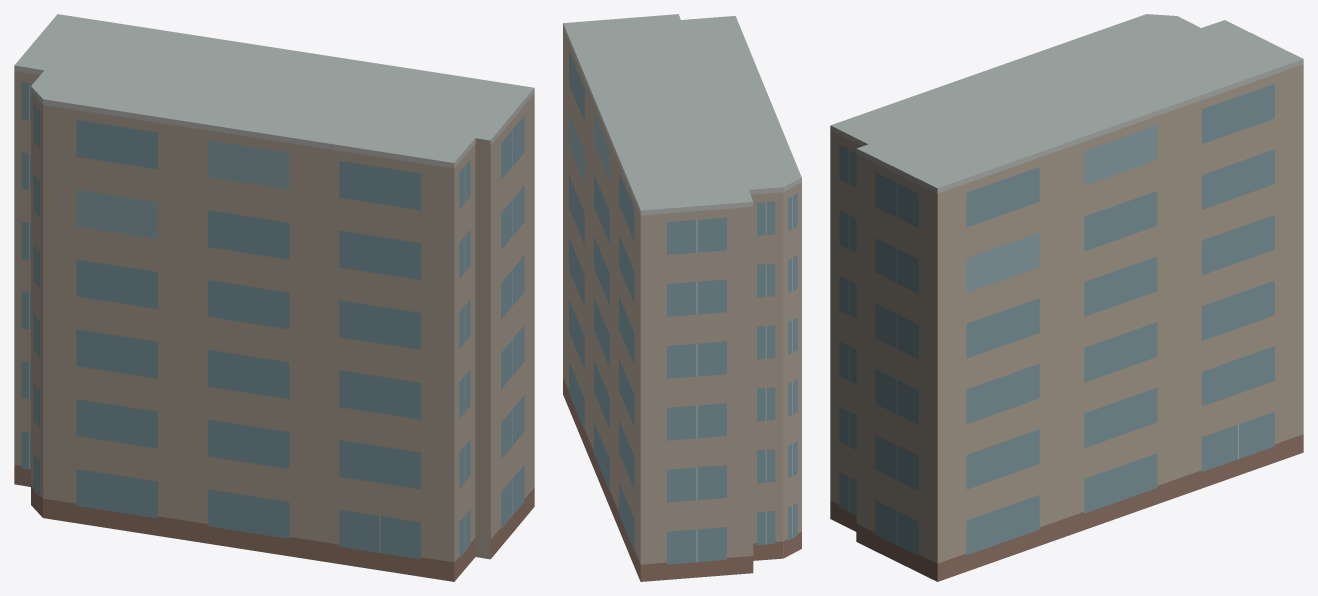
File: survey-upis-33033471.glb
3 renders of one model, left to right at view 1: azimuth 30°, elevation 25°; view 2: azimuth 150°, elevation 25°; view 3: azimuth 270°, elevation 25°, orthographic. The views are drawn at different scales.
Parts seen in each view (by area): view 1: survey-upis-33033471.tmp; view 2: survey-upis-33033471.tmp; view 3: survey-upis-33033471.tmp.
Part boxes in pixels (left/top/right/bottom): survey-upis-33033471.tmp: left=14, top=14, right=534, bottom=581; survey-upis-33033471.tmp: left=563, top=14, right=801, bottom=581; survey-upis-33033471.tmp: left=830, top=14, right=1303, bottom=581.
Size of the model in its own units: 17.4 by 18.3 by 19.96.
